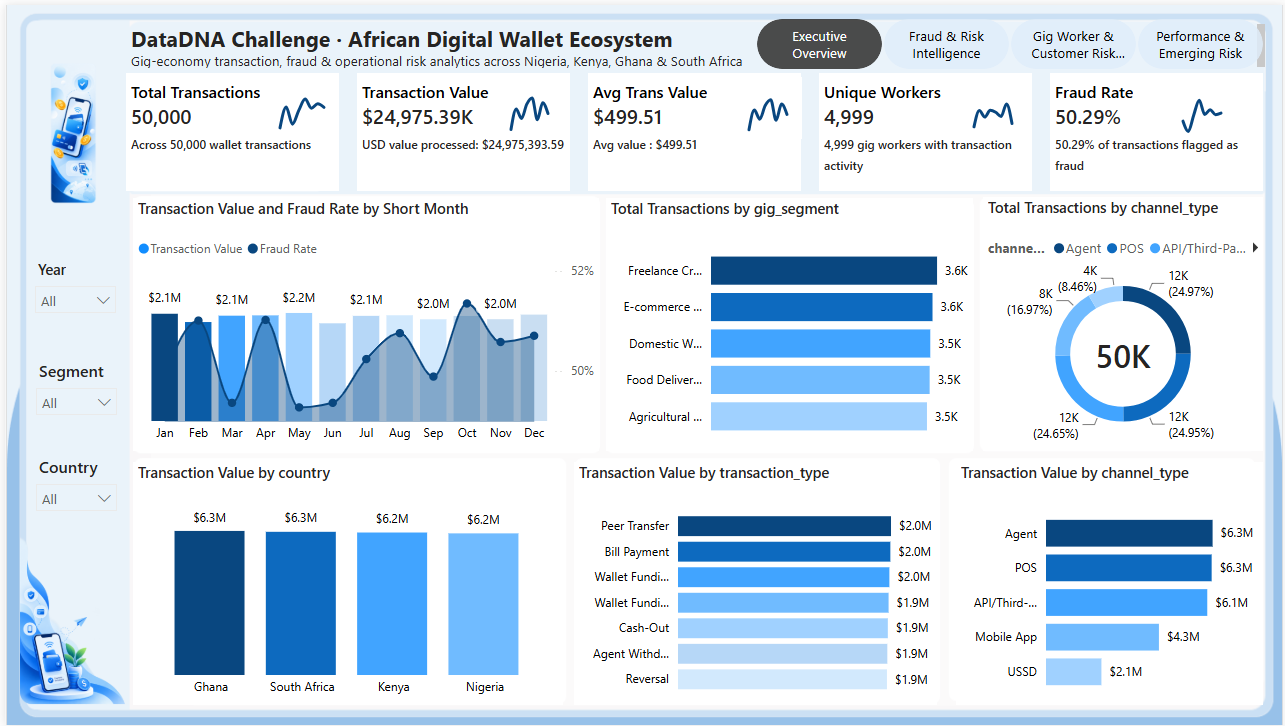

The dashboard page shown, as its layout file describes it:
{"tool":"powerbi","page":{"name":"Executive Overview","canvas":[1280,720],"ordinal":0},"visuals":[{"type":"cardVisual","fields":{"Data":["Measure.Total Transactions"]},"box":[120.9,68.2,212.7,118.2],"z":0},{"type":"lineChart","fields":{"Category":["dim_date.full_date.Variation.Date Hierarchy.Year","dim_date.full_date.Variation.Date Hierarchy.Quarter"],"Y":["Measure.Total Transactions"]},"box":[260,70,73.6,63.6],"z":1000},{"type":"cardVisual","fields":{"Data":["Measure.Transaction Value"]},"box":[352,68.2,212.7,118.2],"z":2000},{"type":"lineChart","fields":{"Category":["dim_date.full_date.Variation.Date Hierarchy.Year","dim_date.full_date.Variation.Date Hierarchy.Quarter"],"Y":["Measure.Transaction Value"]},"box":[490.9,70,67.3,63.6],"z":3000},{"type":"cardVisual","fields":{"Data":["Measure.Avg Transaction Value"]},"box":[583.2,68.2,212.7,118.2],"z":4000},{"type":"lineChart","fields":{"Category":["dim_date.full_date.Variation.Date Hierarchy.Year","dim_date.full_date.Variation.Date Hierarchy.Quarter"],"Y":["Measure.Transaction Value"]},"box":[729.1,71.8,68.2,61.8],"z":5000},{"type":"cardVisual","fields":{"Data":["Measure.Unique Workers"]},"box":[814.3,68.2,212.7,118.2],"z":6000},{"type":"lineChart","fields":{"Category":["dim_date.full_date.Variation.Date Hierarchy.Year","dim_date.full_date.Variation.Date Hierarchy.Quarter"],"Y":["Measure.Unique Workers"]},"box":[943.6,71.8,68.2,61.8],"z":7000},{"type":"cardVisual","fields":{"Data":["Measure.Fraud Rate"]},"box":[1045.5,68.2,212.7,118.2],"z":8000},{"type":"lineChart","fields":{"Category":["dim_date.full_date.Variation.Date Hierarchy.Year","dim_date.full_date.Variation.Date Hierarchy.Quarter"],"Y":["Measure.Unique Workers"]},"box":[953.6,71.8,68.2,61.8],"z":9000},{"type":"lineChart","fields":{"Category":["dim_date.full_date.Variation.Date Hierarchy.Year","dim_date.full_date.Variation.Date Hierarchy.Quarter"],"Y":["Measure.Fraud Rate"]},"box":[1162.7,71.8,68.2,61.8],"z":10000},{"type":"lineStackedColumnComboChart","fields":{"Category":["dim_date.Short Month"],"Y":["Measure.Transaction Value"],"Y2":["Measure.Fraud Rate"]},"box":[128.2,192.7,465.5,253.6],"z":11000},{"type":"clusteredColumnChart","fields":{"Category":["dim_market.country"],"Y":["Measure.Transaction Value"]},"box":[128.2,457.3,430,242.7],"z":12000},{"type":"donutChart","fields":{"Category":["dim_channel.channel_type"],"Y":["Measure.Total Transactions"]},"box":[978.1,192.3,280.1,253.8],"z":13000},{"type":"clusteredBarChart","fields":{"Category":["fact_transactions.transaction_type"],"Y":["Measure.Transaction Value"]},"box":[569.1,457.3,362.7,242.7],"z":14000},{"type":"clusteredBarChart","fields":{"Category":["dim_worker.gig_segment"],"Y":["Measure.Total Transactions"]},"box":[600.9,192.7,367.3,253.6],"z":15000},{"type":"clusteredBarChart","fields":{"Category":["dim_channel.channel_type"],"Y":["Measure.Transaction Value"]},"box":[950.9,457.3,307.3,242.7],"z":16000},{"type":"textbox","box":[120.9,13.6,1144.5,54.5],"z":17000},{"type":"pageNavigator","box":[752.2,14,505.8,49.9],"z":18000},{"type":"image","box":[14.9,14,107.1,229.2],"z":19000},{"type":"slicer","fields":{"Values":["dim_date.full_date.Variation.Date Hierarchy.Year"]},"box":[20.2,249.4,101,70.2],"z":20000},{"type":"slicer","fields":{"Values":["dim_worker.gig_segment"]},"box":[21.1,350.3,101,64.1],"z":20001},{"type":"slicer","fields":{"Values":["dim_market.country"]},"box":[21.1,446,101,64.1],"z":20002},{"type":"image","box":[14.9,521.6,113.3,187],"z":20003}]}

Visuals, with their boxes on the page's 1280x720 design canvas (x1, y1, x2, y2). These are canvas units, not pixel positions in the 1285x726 screenshot, which may show the page scaled, cropped or inside an application window:
cardVisual - Measure.Total Transactions: <box>121,68,334,186</box>
lineChart - dim_date.full_date.Variation.Date Hierarchy.Year x dim_date.full_date.Variation.Date Hierarchy.Quarter: <box>260,70,334,134</box>
cardVisual - Measure.Transaction Value: <box>352,68,565,186</box>
lineChart - dim_date.full_date.Variation.Date Hierarchy.Year x dim_date.full_date.Variation.Date Hierarchy.Quarter: <box>491,70,558,134</box>
cardVisual - Measure.Avg Transaction Value: <box>583,68,796,186</box>
lineChart - dim_date.full_date.Variation.Date Hierarchy.Year x dim_date.full_date.Variation.Date Hierarchy.Quarter: <box>729,72,797,134</box>
cardVisual - Measure.Unique Workers: <box>814,68,1027,186</box>
lineChart - dim_date.full_date.Variation.Date Hierarchy.Year x dim_date.full_date.Variation.Date Hierarchy.Quarter: <box>944,72,1012,134</box>
cardVisual - Measure.Fraud Rate: <box>1046,68,1258,186</box>
lineChart - dim_date.full_date.Variation.Date Hierarchy.Year x dim_date.full_date.Variation.Date Hierarchy.Quarter: <box>954,72,1022,134</box>
lineChart - dim_date.full_date.Variation.Date Hierarchy.Year x dim_date.full_date.Variation.Date Hierarchy.Quarter: <box>1163,72,1231,134</box>
lineStackedColumnComboChart - dim_date.Short Month x Measure.Transaction Value: <box>128,193,594,446</box>
clusteredColumnChart - dim_market.country x Measure.Transaction Value: <box>128,457,558,700</box>
donutChart - dim_channel.channel_type x Measure.Total Transactions: <box>978,192,1258,446</box>
clusteredBarChart - fact_transactions.transaction_type x Measure.Transaction Value: <box>569,457,932,700</box>
clusteredBarChart - dim_worker.gig_segment x Measure.Total Transactions: <box>601,193,968,446</box>
clusteredBarChart - dim_channel.channel_type x Measure.Transaction Value: <box>951,457,1258,700</box>
textbox: <box>121,14,1265,68</box>
pageNavigator: <box>752,14,1258,64</box>
image: <box>15,14,122,243</box>
slicer - dim_date.full_date.Variation.Date Hierarchy.Year: <box>20,249,121,320</box>
slicer - dim_worker.gig_segment: <box>21,350,122,414</box>
slicer - dim_market.country: <box>21,446,122,510</box>
image: <box>15,522,128,709</box>
